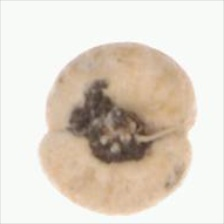L4: (37, 42, 196, 216)
